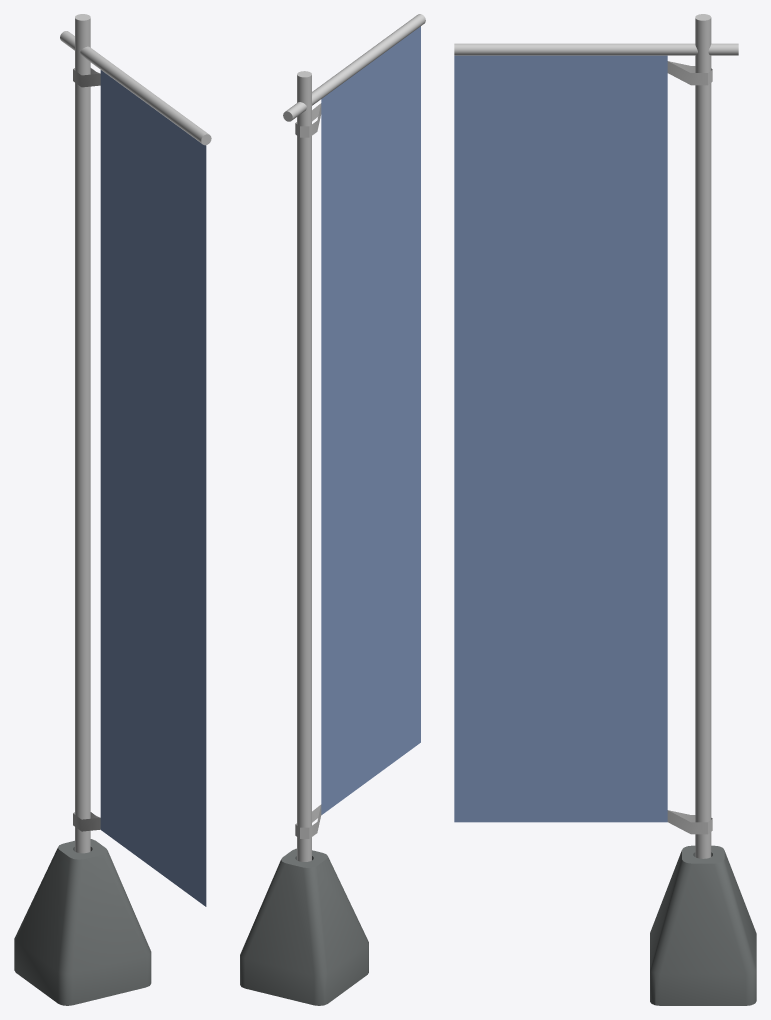
The model's file is flag-base2-set.fbx.
3 views of the same model, side by side, from view 1: azimuth 30°, elevation 25°; view 2: azimuth 150°, elevation 25°; view 3: azimuth 270°, elevation 25° (orthographic). The views are drawn at different scales.
Visible parts, largest first — view 1: flag, flag-base2; view 2: flag, flag-base2; view 3: flag, flag-base2.
Part boxes in pixels (<box>): flag: <box>60,14,211,906</box>; flag-base2: <box>14,839,151,1005</box>; flag: <box>283,14,425,861</box>; flag-base2: <box>240,848,368,1005</box>; flag: <box>454,14,738,858</box>; flag-base2: <box>650,845,756,1005</box>.
Bounding box in the file's own units: 15 × 150 × 42.5.
